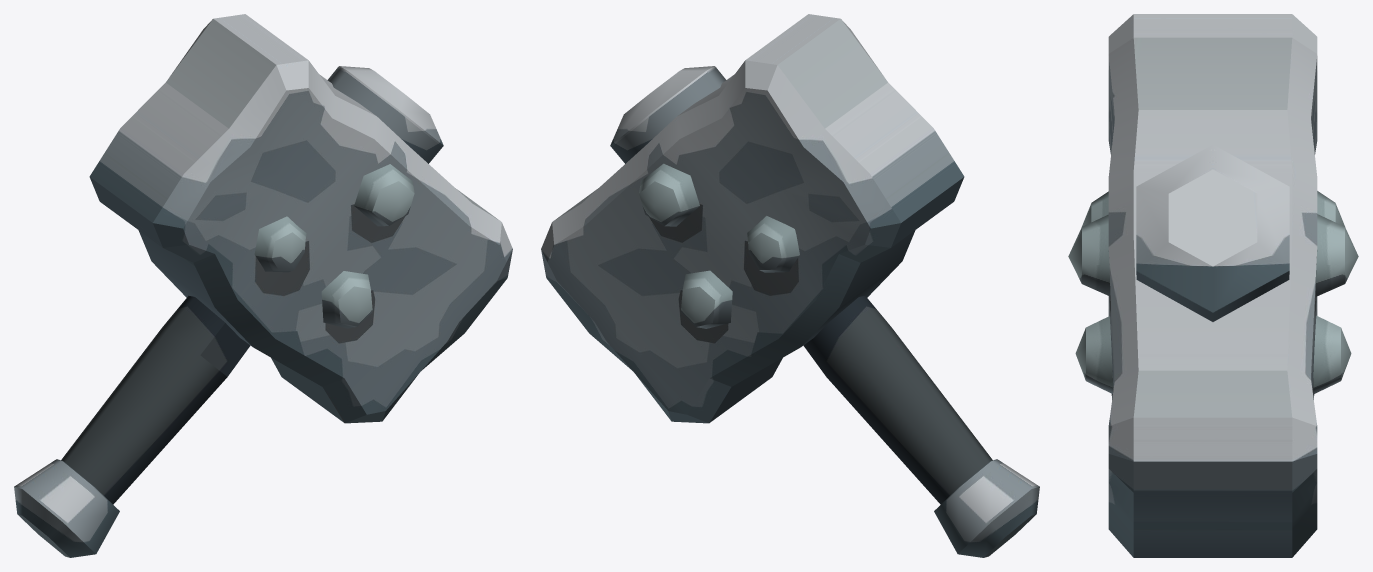
The model's file is Stone_04.FBX.
3 views of the same model, side by side, from view 1: azimuth 30°, elevation 25°; view 2: azimuth 150°, elevation 25°; view 3: azimuth 270°, elevation 25° (orthographic). The views are drawn at different scales.
Visible parts, largest first — view 1: Stone_04; view 2: Stone_04; view 3: Stone_04.
Part boxes in pixels (bbox=[...]): Stone_04: bbox=[14, 14, 512, 557]; Stone_04: bbox=[541, 14, 1039, 557]; Stone_04: bbox=[1068, 14, 1358, 557].
Bounding box in the file's own units: 70.69 × 69.43 × 30.91.
